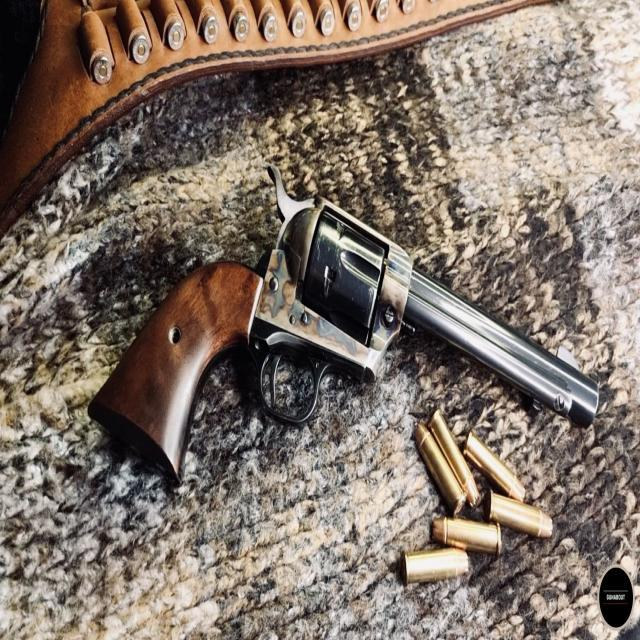revolver: (82, 178, 620, 543)
